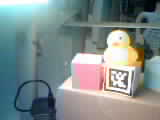duck: (98, 24, 139, 63)
